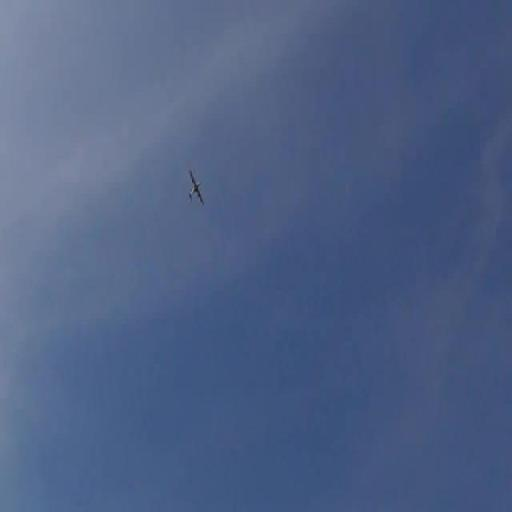uav: (183, 164, 207, 214)
